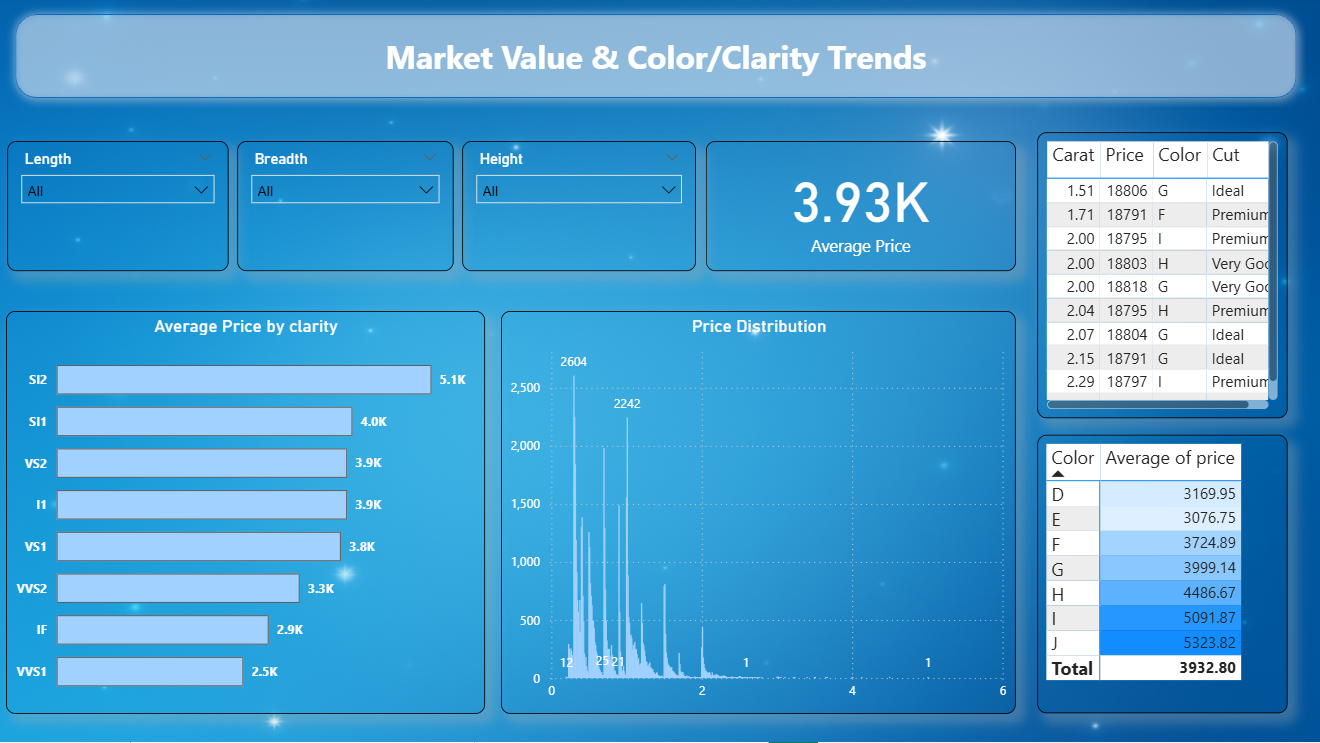

The dashboard page shown, as its layout file describes it:
{"tool":"powerbi","page":{"name":" Market Value & Color/Clarity Trends","canvas":[1280,720],"ordinal":1},"visuals":[{"type":"card","fields":{"Values":["Measures Table 2.Average Price"]},"box":[685.3,139.9,299.2,125.5],"z":0},{"type":"shape","box":[9.8,8.6,1254.6,99],"z":1},{"type":"pivotTable","fields":{"Rows":["diamonds.color"],"Values":["Avg(diamonds.price)"]},"box":[1005,423.5,241.3,269],"z":2},{"type":"barChart","fields":{"Y":["Measures Table 2.Average Price"],"Category":["diamonds.clarity"]},"box":[9.7,304,462.1,388.5],"z":3},{"type":"clusteredColumnChart","title":"Price Distribution","fields":{"Y":["CountNonNull(diamonds.carat (bins))"],"Category":["diamonds.carat"]},"box":[487.4,304,497.1,388.5],"z":4},{"type":"tableEx","fields":{"Values":["Table.carat","Table.price","Table.color","Table.cut"]},"box":[1005,131.5,241.3,276.3],"z":5},{"type":"slicer","fields":{"Values":["diamonds.x"]},"box":[10.9,139.9,213.5,125.5],"z":6},{"type":"slicer","fields":{"Values":["diamonds.y"]},"box":[232.8,139.9,208.7,125.5],"z":7},{"type":"slicer","fields":{"Values":["diamonds.z"]},"box":[450,139.9,225.6,125.5],"z":8}]}

Visuals, with their boxes in screenshot pixels (x1, y1, x2, y2), scaled from the page's 1280x720 canvas onto the 1320x743 screenshot:
card - Measures Table 2.Average Price: box(707, 144, 1015, 274)
shape: box(10, 9, 1304, 111)
pivotTable - diamonds.color x Avg(diamonds.price): box(1036, 437, 1285, 715)
barChart - Measures Table 2.Average Price x diamonds.clarity: box(10, 314, 487, 715)
"Price Distribution" clusteredColumnChart: box(503, 314, 1015, 715)
tableEx - Table.carat x Table.price: box(1036, 136, 1285, 421)
slicer - diamonds.x: box(11, 144, 231, 274)
slicer - diamonds.y: box(240, 144, 455, 274)
slicer - diamonds.z: box(464, 144, 697, 274)
